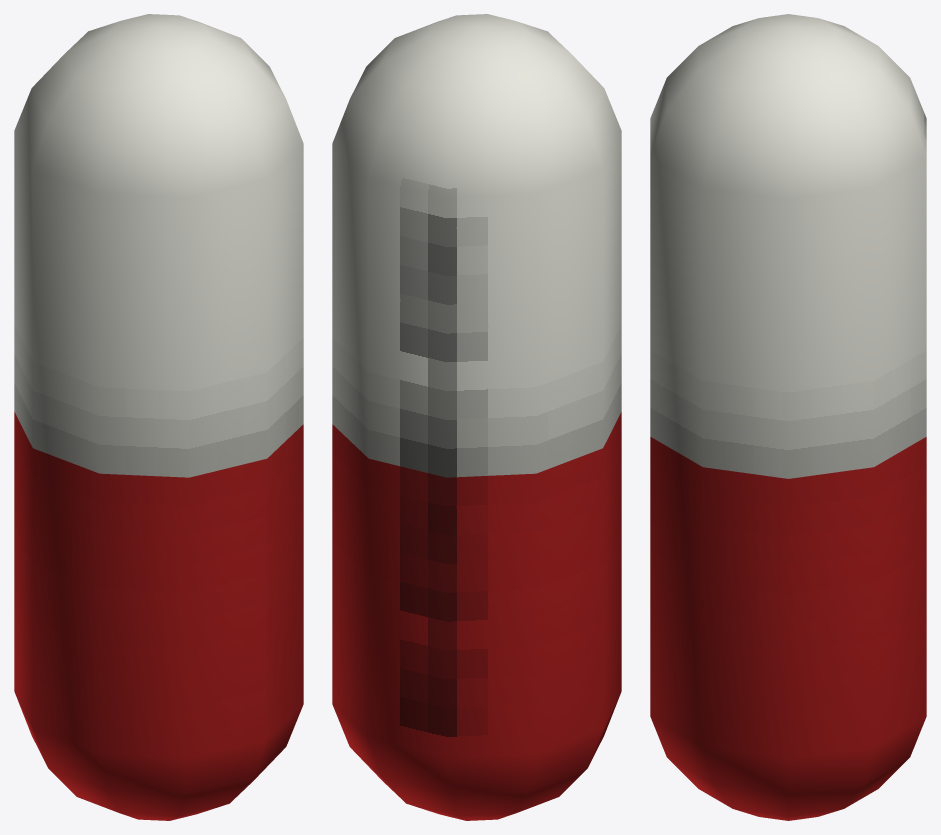
Rendered from jjBomb_obj.fbx.
3 renders of one model, left to right at view 1: azimuth 30°, elevation 25°; view 2: azimuth 150°, elevation 25°; view 3: azimuth 270°, elevation 25°, orthographic.
Parts seen in each view (by area): view 1: jjBomb_obj; view 2: jjBomb_obj; view 3: jjBomb_obj.
Boxes of the visible parts, x1,y1,x2,y2 form: jjBomb_obj: (14, 14, 303, 820); jjBomb_obj: (332, 14, 621, 820); jjBomb_obj: (650, 14, 926, 820).
Size of the model in its own units: 0.2198 by 0.6506 by 0.209.
